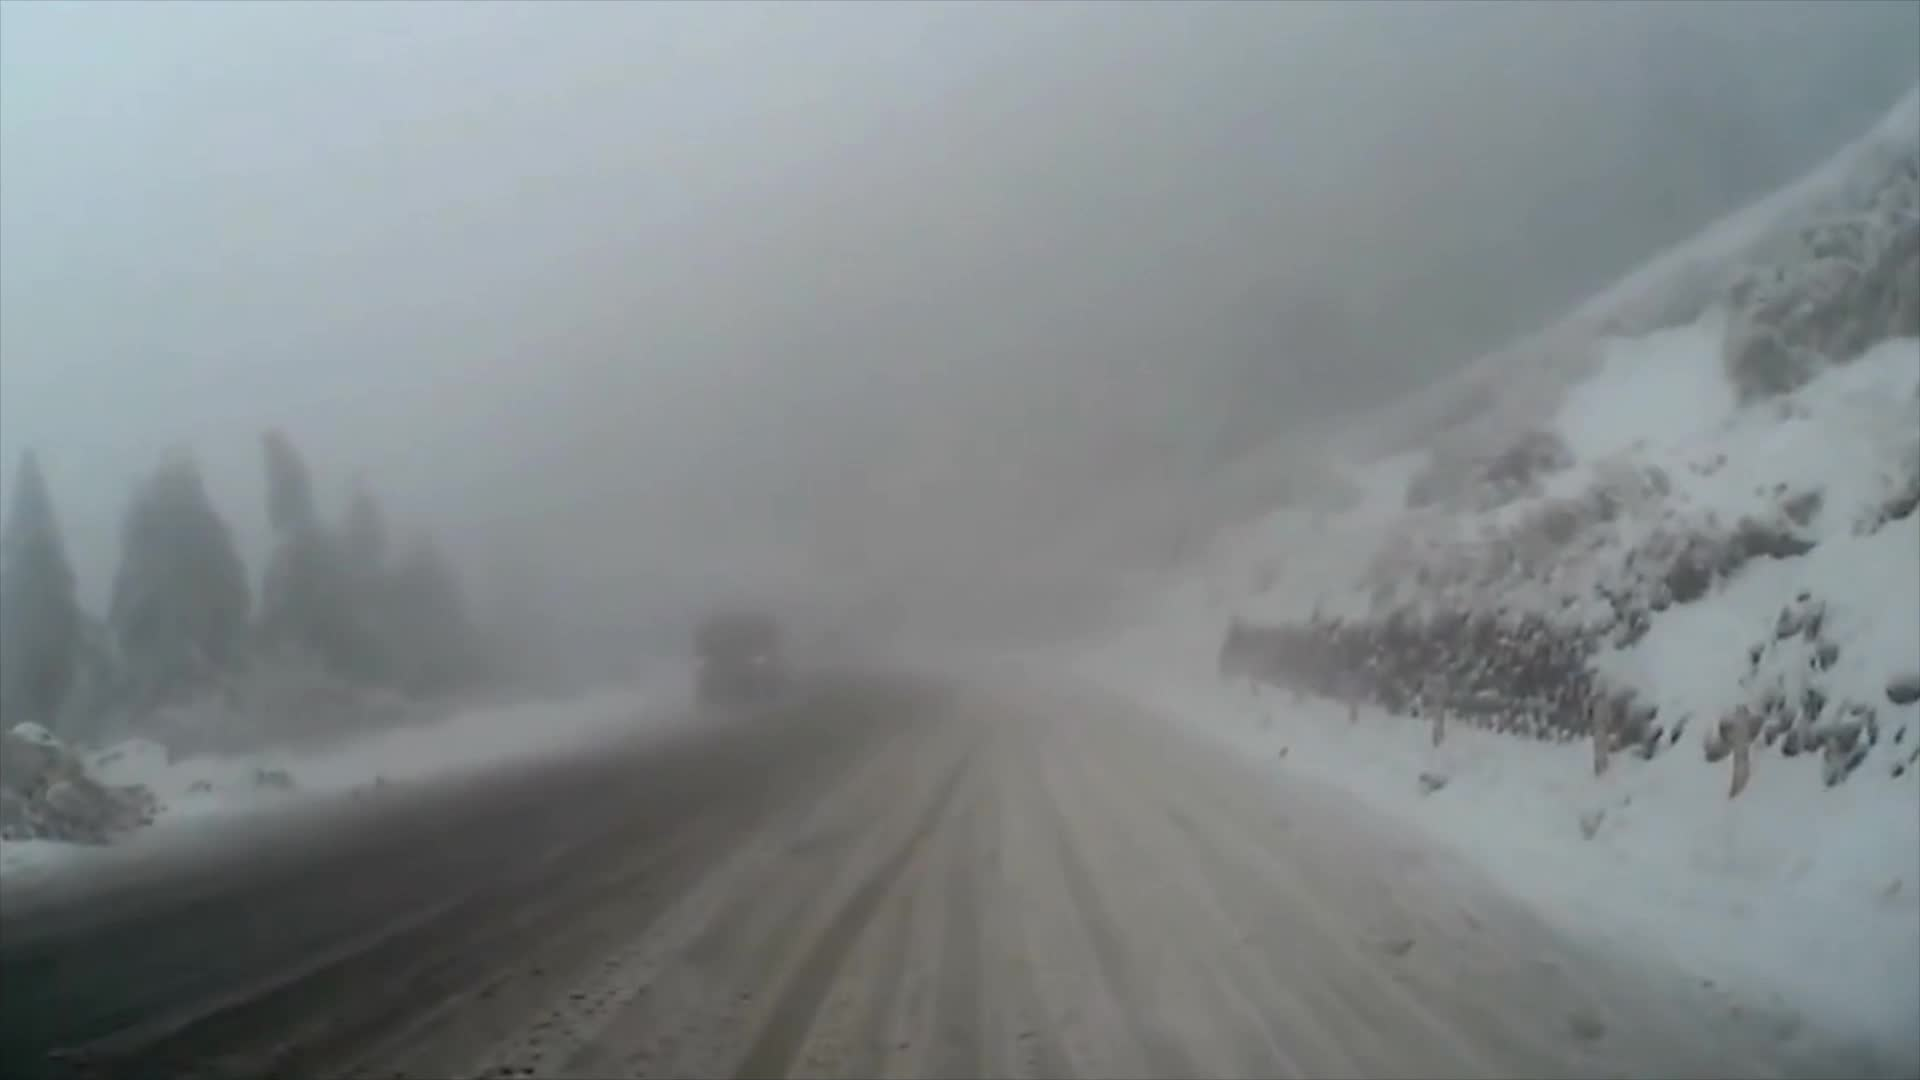vehicle: (684, 611, 785, 704)
